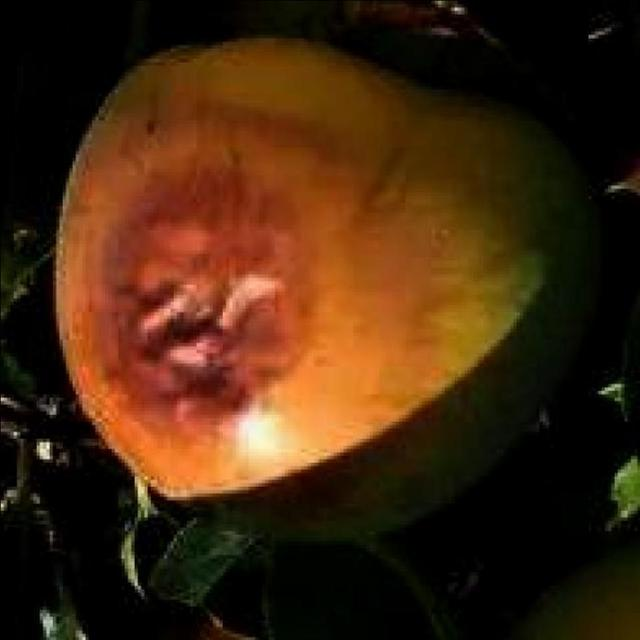Sunscald Fruit: (64, 100, 225, 326)
